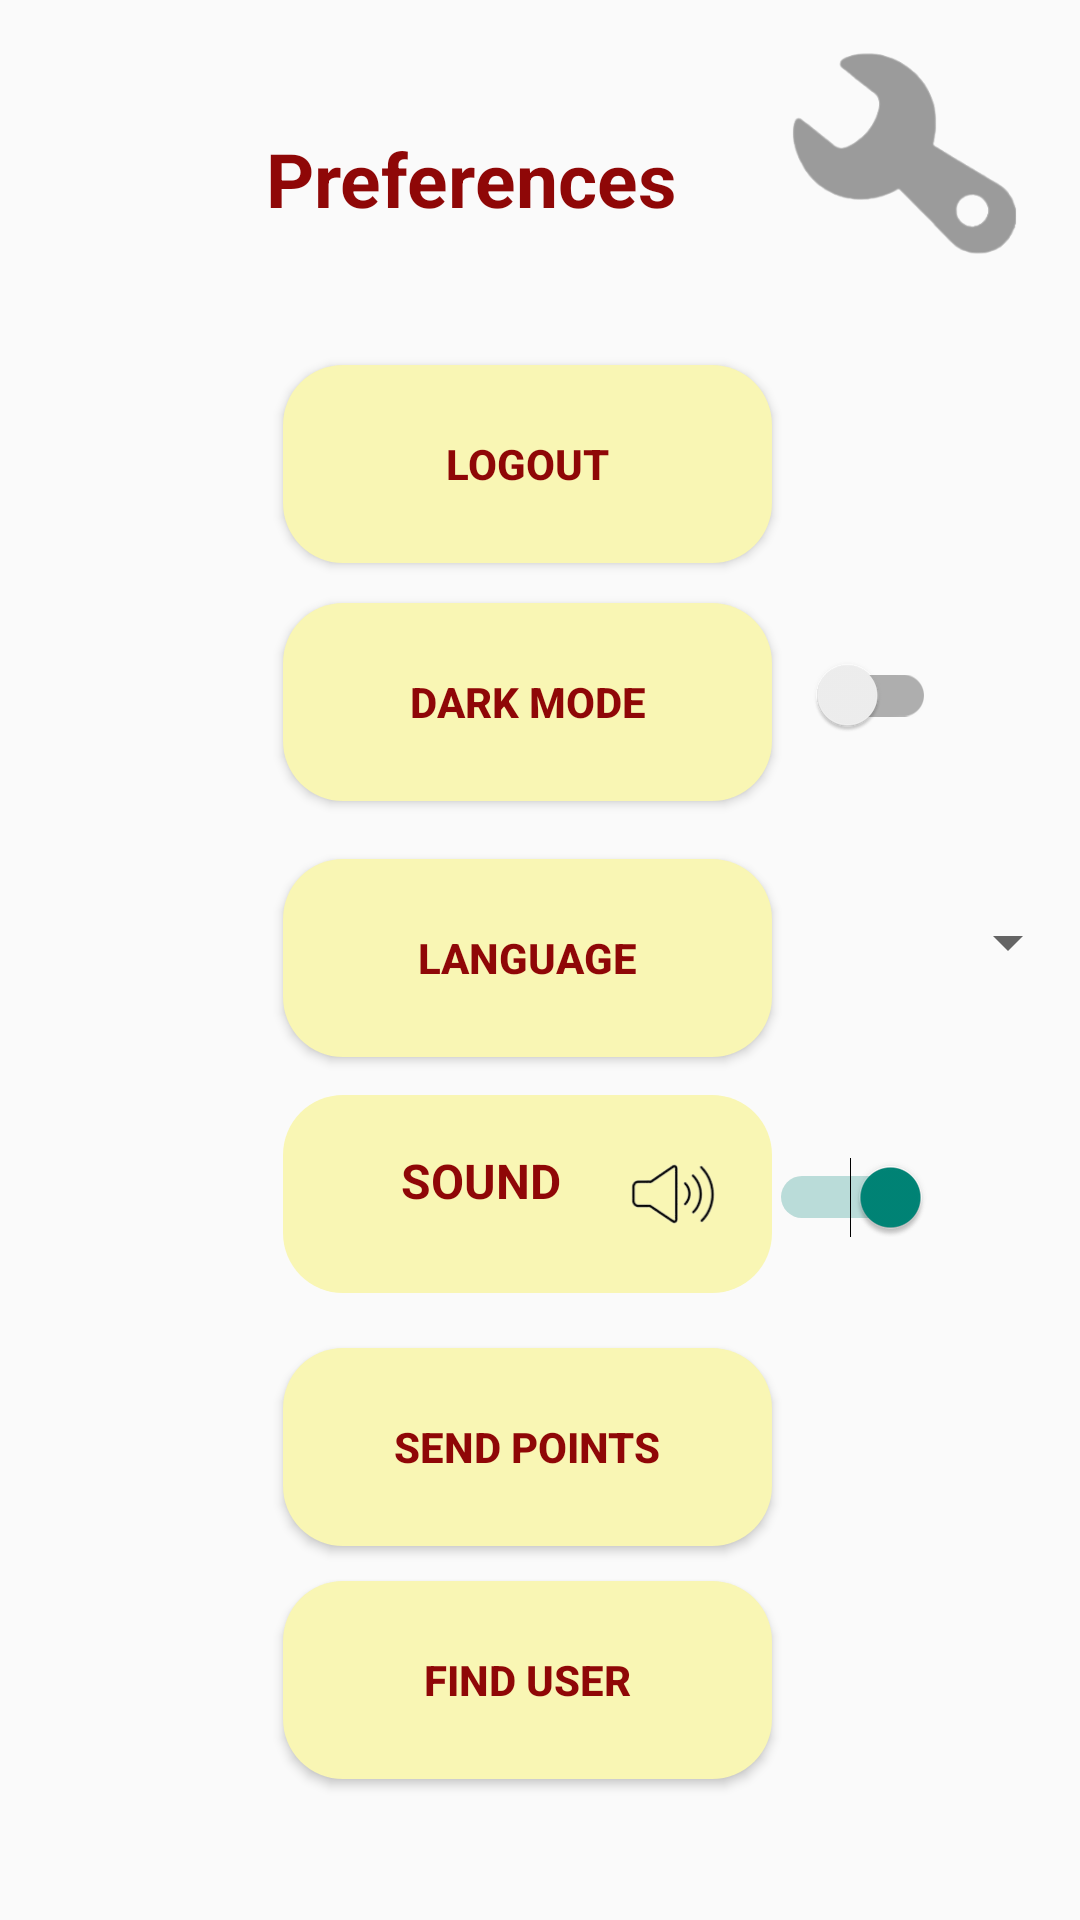

Locate icon controls on the screen. Image size 1080 x 1920, boxes as rect(x1, y1, x2, y2).
settings menu: rect(793, 53, 1016, 254)
